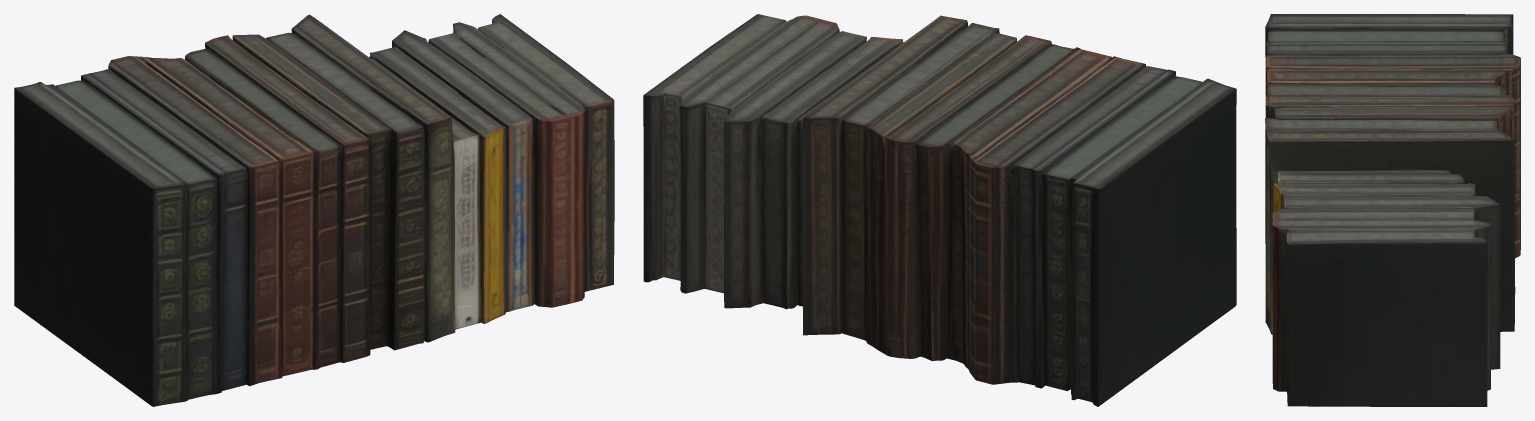
Rendered from menuboard_coffee.glb.
The picture shows the model from 3 angles, left to right: view 1: azimuth 30°, elevation 25°; view 2: azimuth 150°, elevation 25°; view 3: azimuth 270°, elevation 25°; orthographic projection. The views are drawn at different scales.
Parts seen in each view (by area): view 1: geometry_0; view 2: geometry_0; view 3: geometry_0.
Part boxes in pixels (x1,y1,x2,y2): geometry_0: (14,14,614,406); geometry_0: (643,14,1236,406); geometry_0: (1265,14,1520,406).
Size of the model in its own units: 1 by 0.4426 by 0.5354.
Materials: 1 (1 with a texture image).
